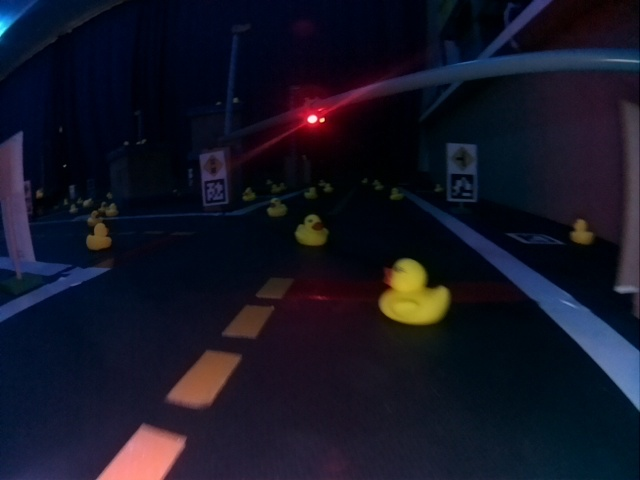Duckie: (380, 257, 444, 323), (295, 215, 327, 246), (571, 218, 595, 244), (86, 225, 110, 250), (267, 200, 284, 216), (105, 203, 116, 216), (242, 187, 252, 200), (390, 188, 400, 199), (309, 188, 316, 198)
Intersection sign: (448, 144, 477, 173)
QR code: (508, 232, 562, 245), (204, 178, 225, 205), (451, 174, 473, 198)
Signal sign: (201, 154, 222, 174)
Traffic light: (302, 100, 323, 126)
